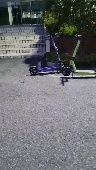beam: (28, 31, 67, 74)
gcooter: (61, 33, 96, 76)
